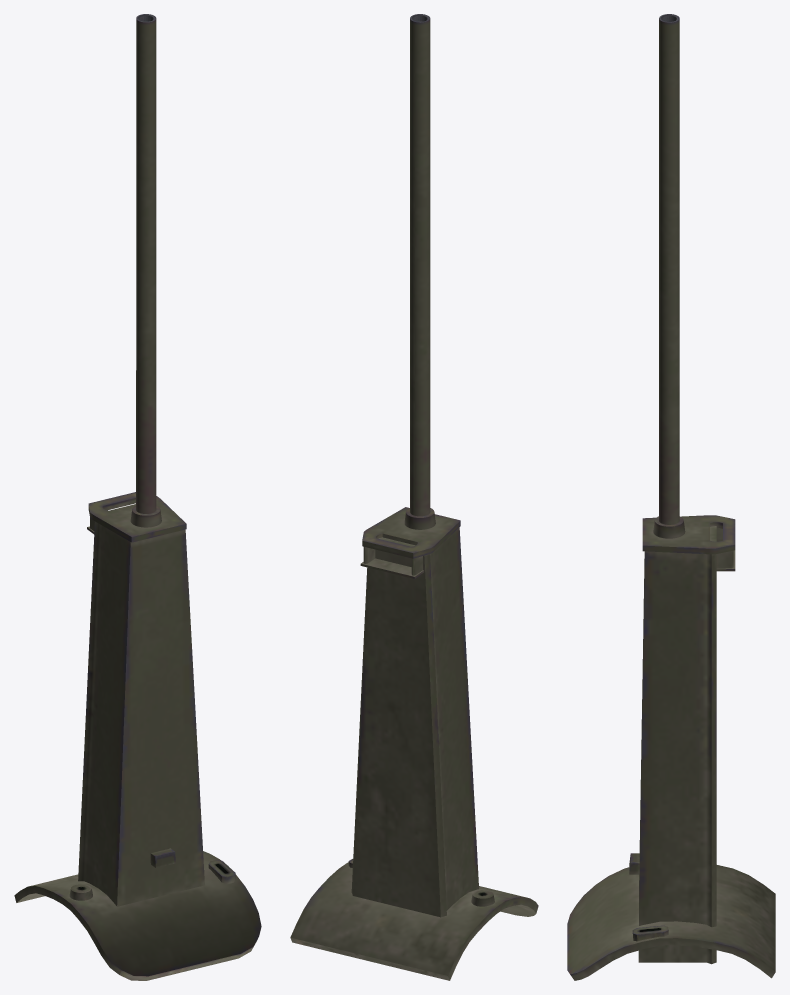
Rendered from Gun_03.glb.
The picture shows the model from 3 angles, left to right: view 1: azimuth 30°, elevation 25°; view 2: azimuth 150°, elevation 25°; view 3: azimuth 270°, elevation 25°; orthographic projection. The views are drawn at different scales.
Parts seen in each view (by area): view 1: set_0_group_0; view 2: set_0_group_0; view 3: set_0_group_0.
Part boxes in pixels (bbox=[...]): set_0_group_0: bbox=[14, 14, 261, 980]; set_0_group_0: bbox=[290, 14, 538, 980]; set_0_group_0: bbox=[567, 14, 775, 980].
Size of the model in its own units: 0.4463 by 2.49 by 0.5027.
1 material, 1 textured.
